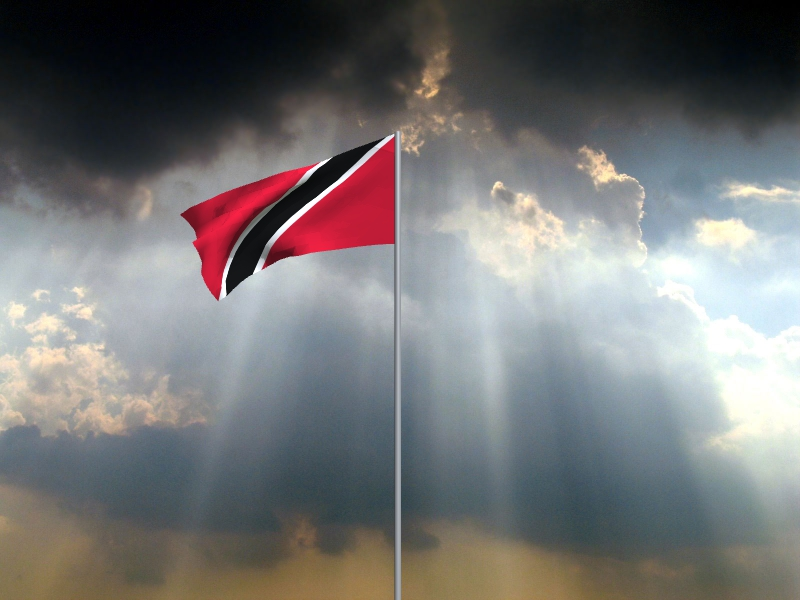tt: (180, 134, 394, 302)
